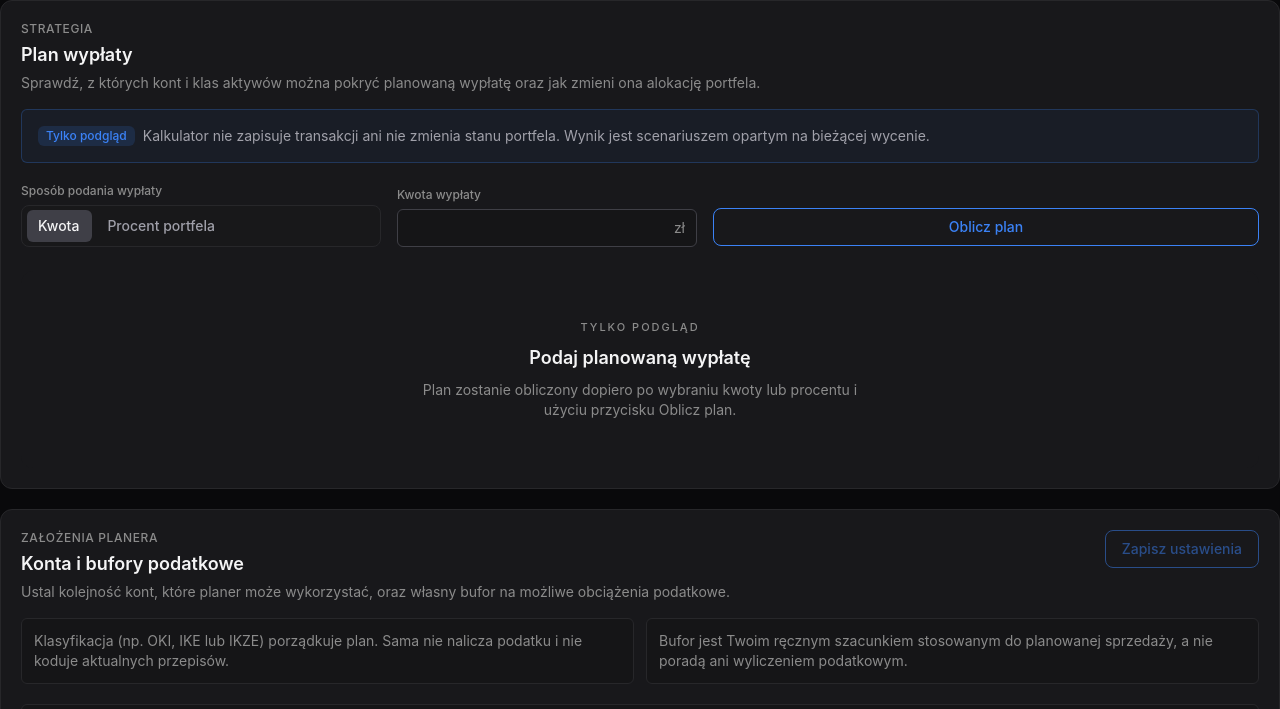
PortfolioWithdrawalPlannerSection › calculates only on demand and renders the funding and allocation preview
Expected: the heading "Plan wypłaty" is shown, x1=21 y1=44 x2=132 y2=65
Expected: the 1st text "Tylko podgląd" is shown, x1=38 y1=126 x2=135 y2=146
Type "10000" into the field labelled "Kwota wypłaty" at (547, 228), box x1=397 y1=209 x2=697 y2=247
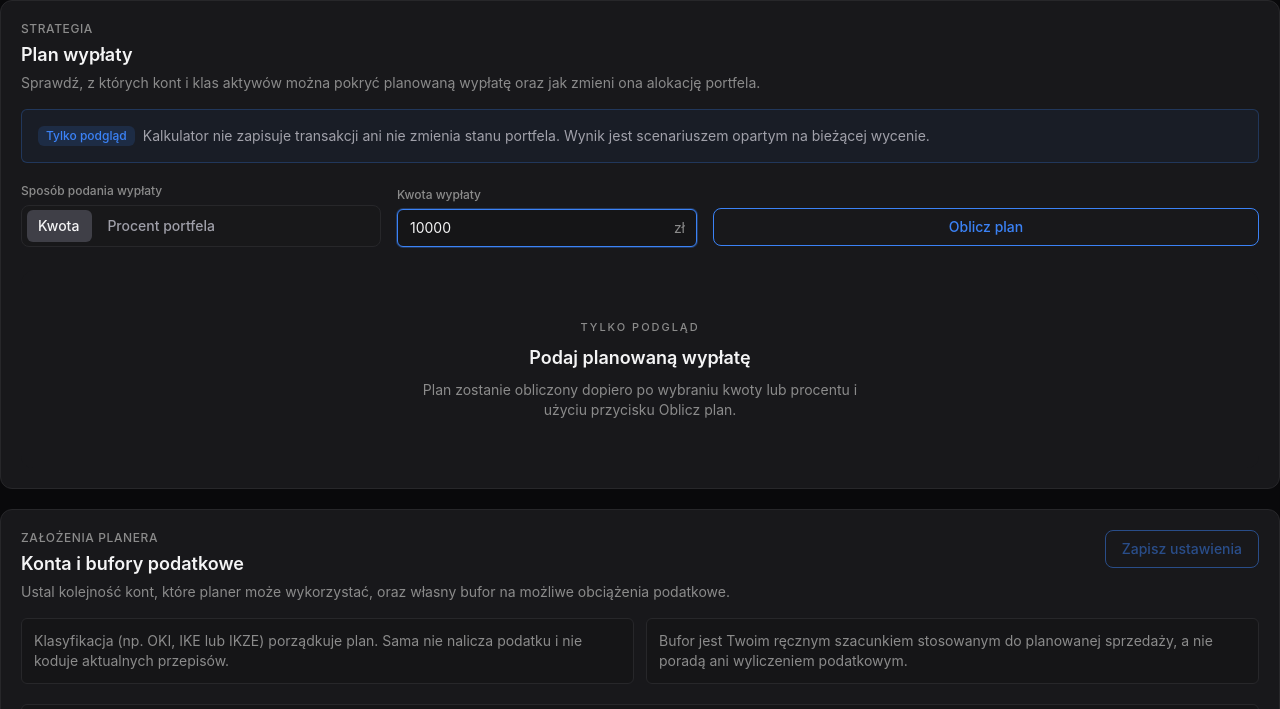
Click the button "Oblicz plan" at (986, 227), box x1=713 y1=208 x2=1259 y2=246
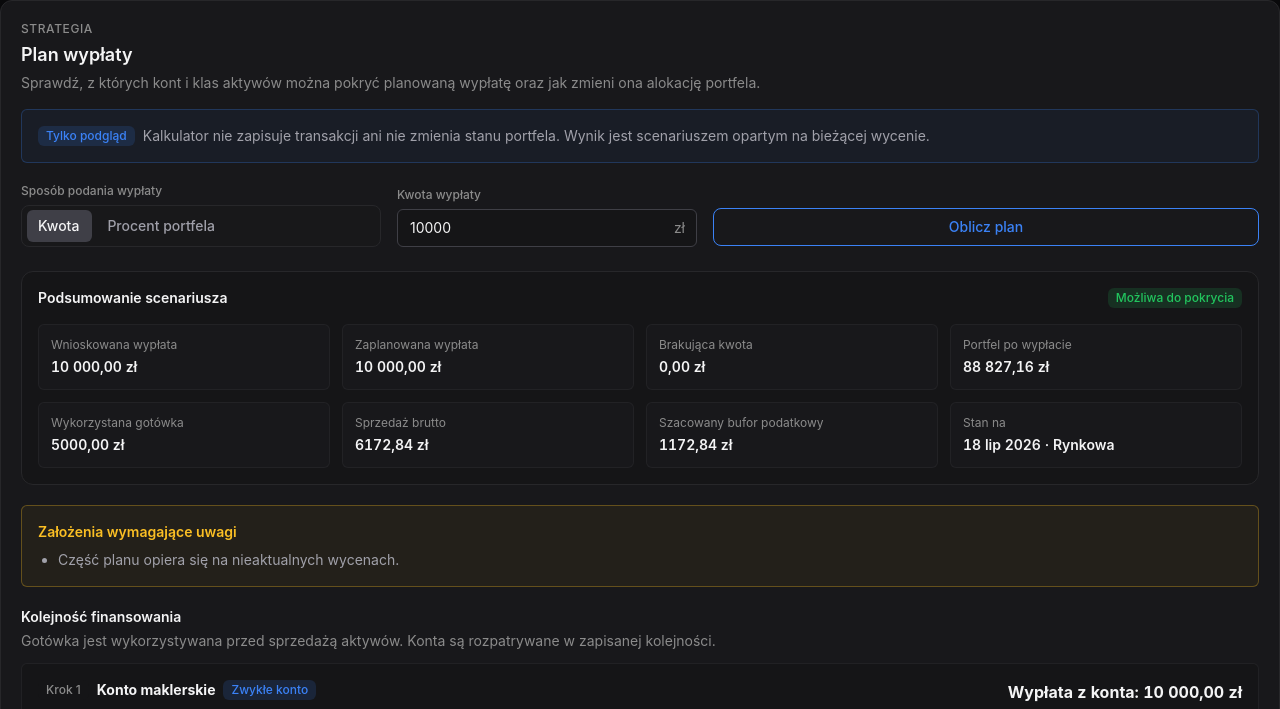
Now the heading "Podsumowanie scenariusza" is shown, box x1=38 y1=288 x2=227 y2=308
Now the text "Możliwa do pokrycia" is shown, box x1=1108 y1=288 x2=1242 y2=308
Now the heading "Kolejność finansowania" is shown, box x1=21 y1=608 x2=181 y2=625
